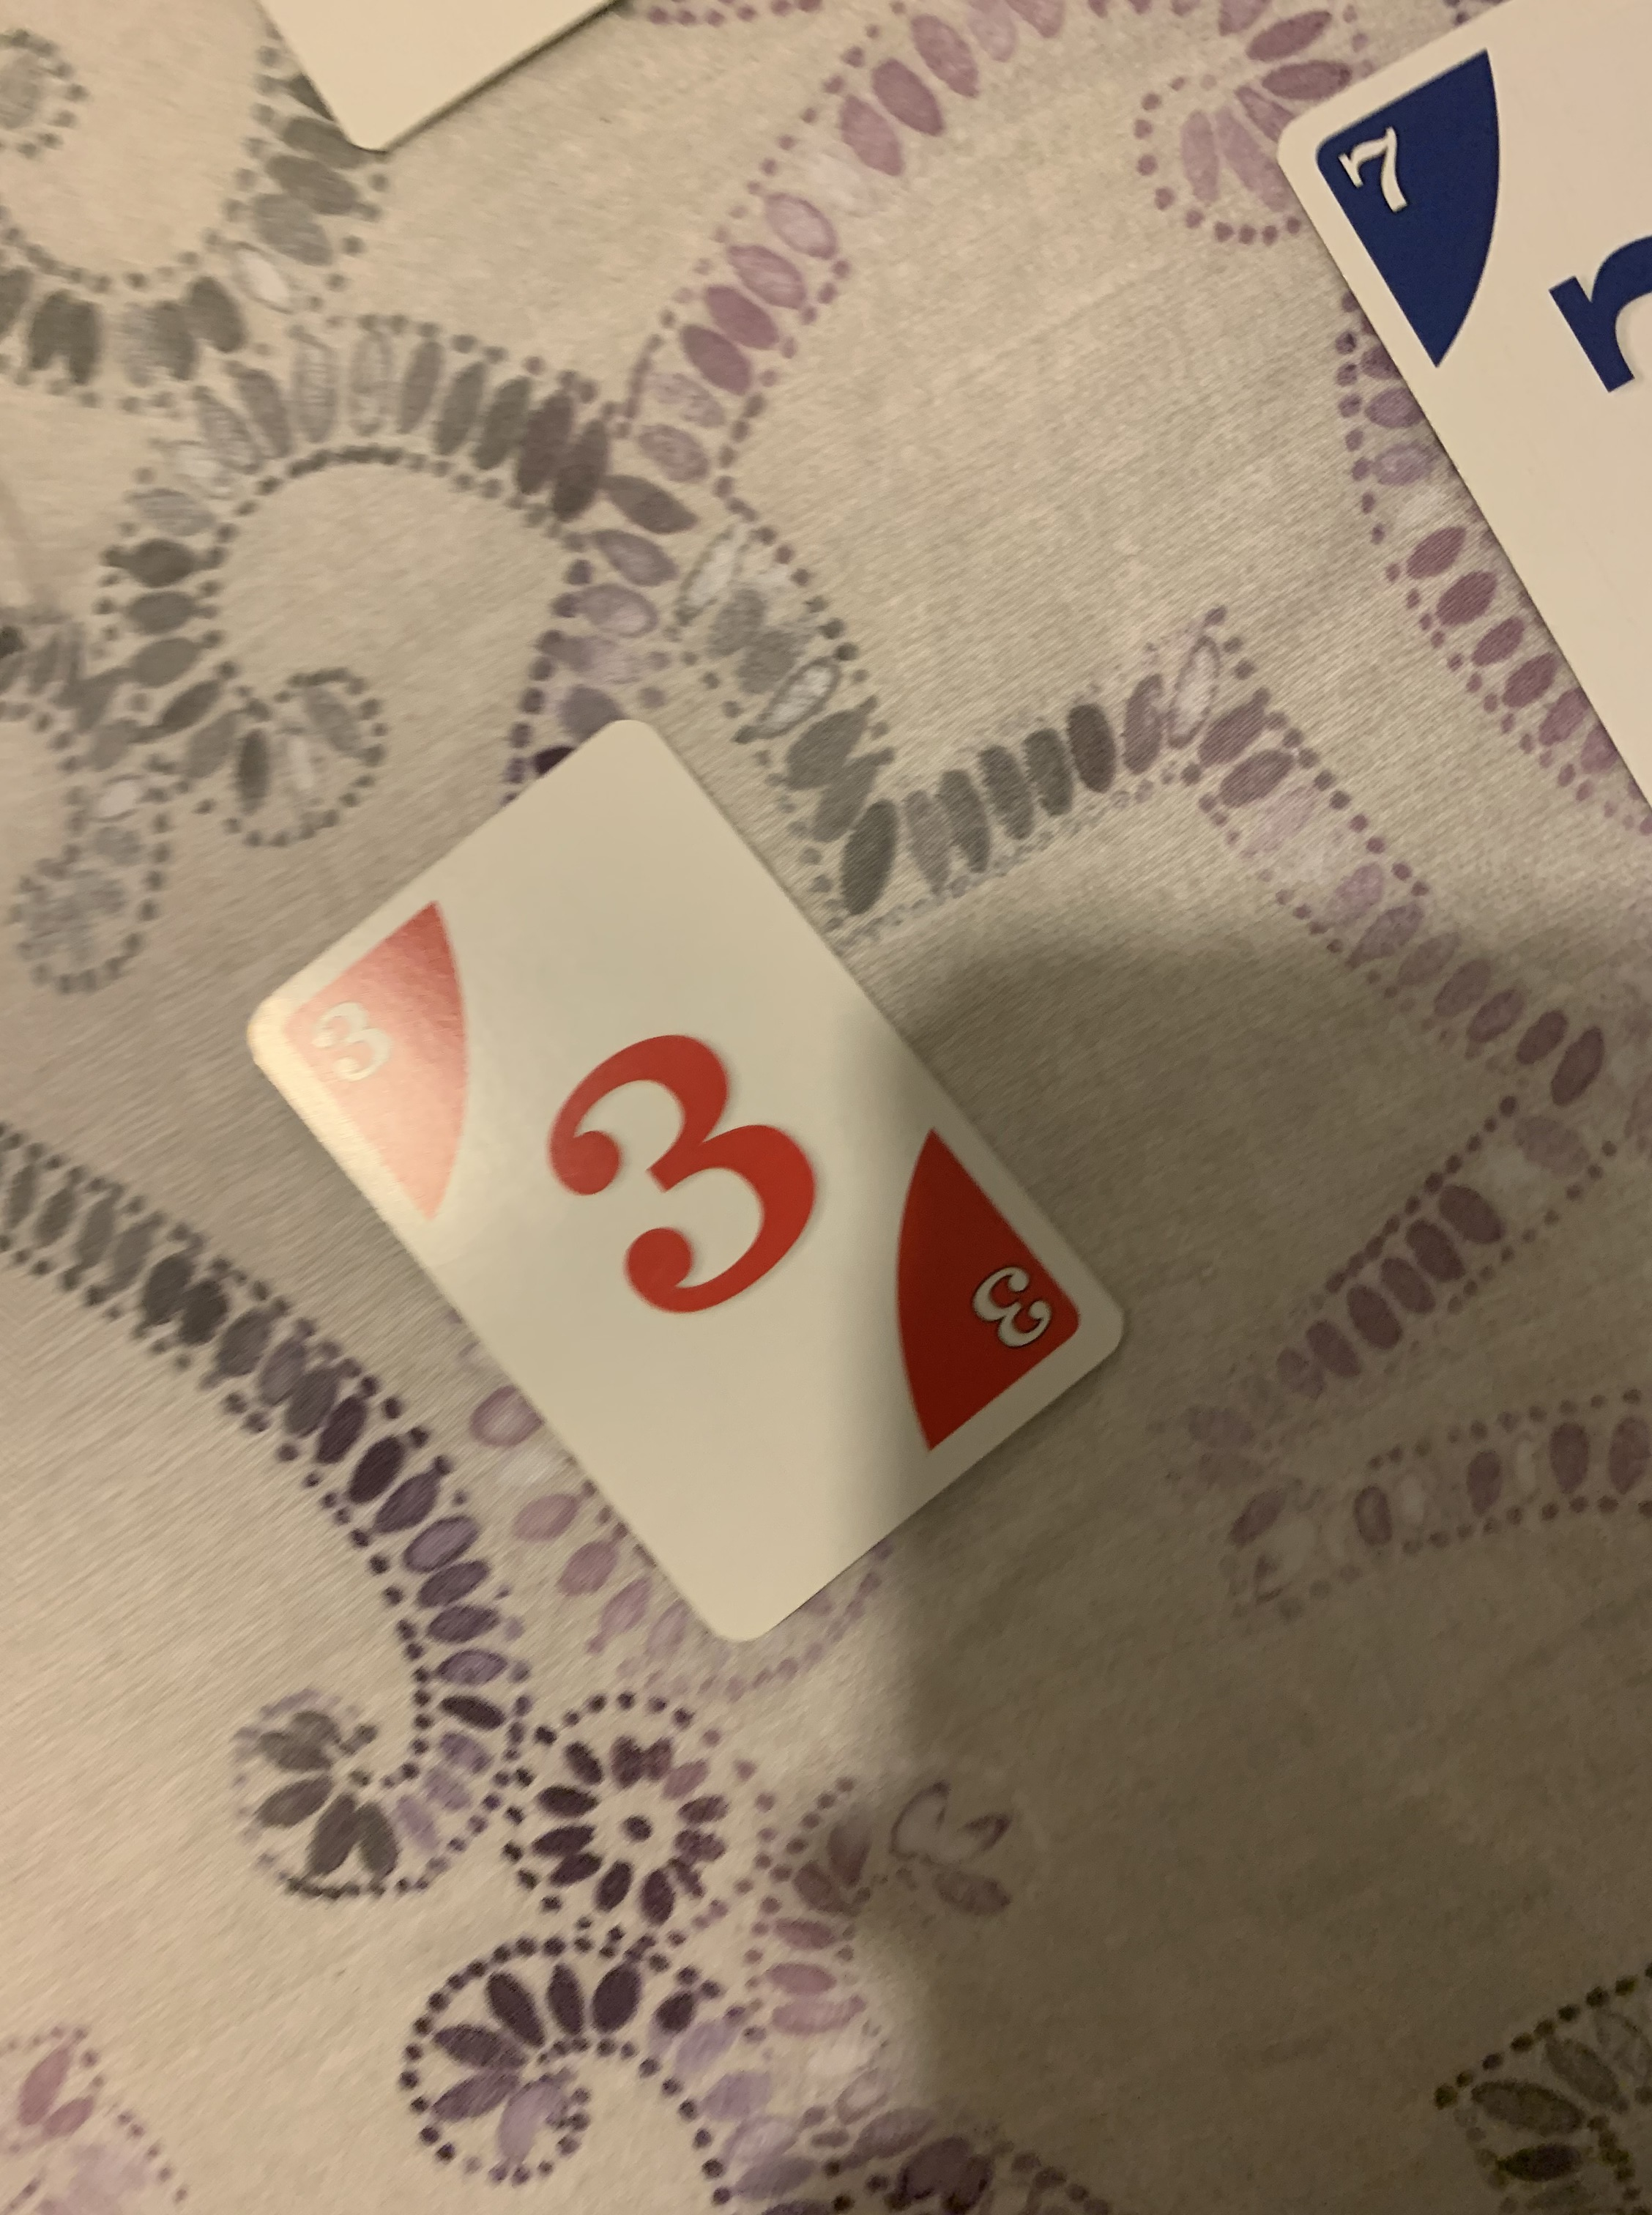three: (239, 720, 1128, 1651)
